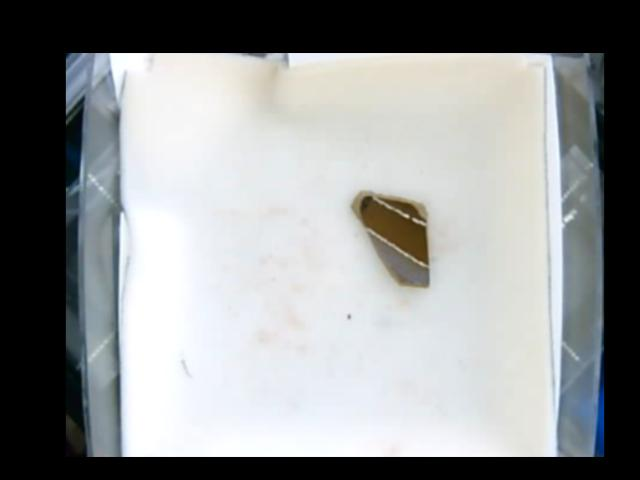China: (349, 188, 428, 288)
